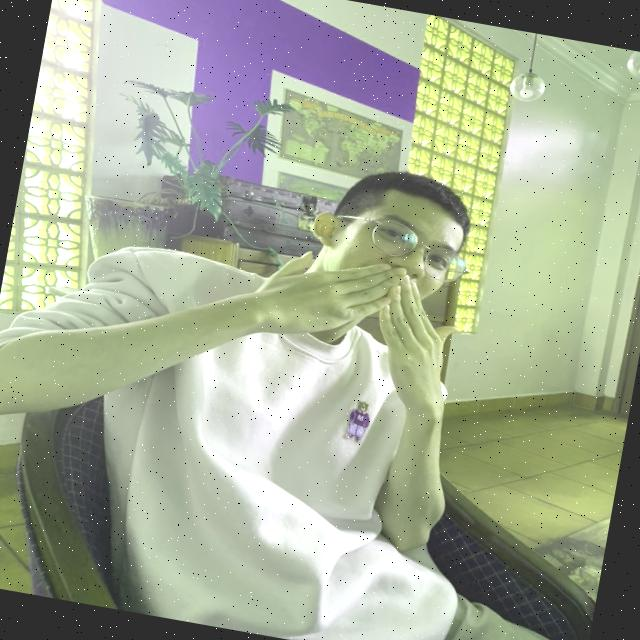thanks: (254, 215, 472, 410)
